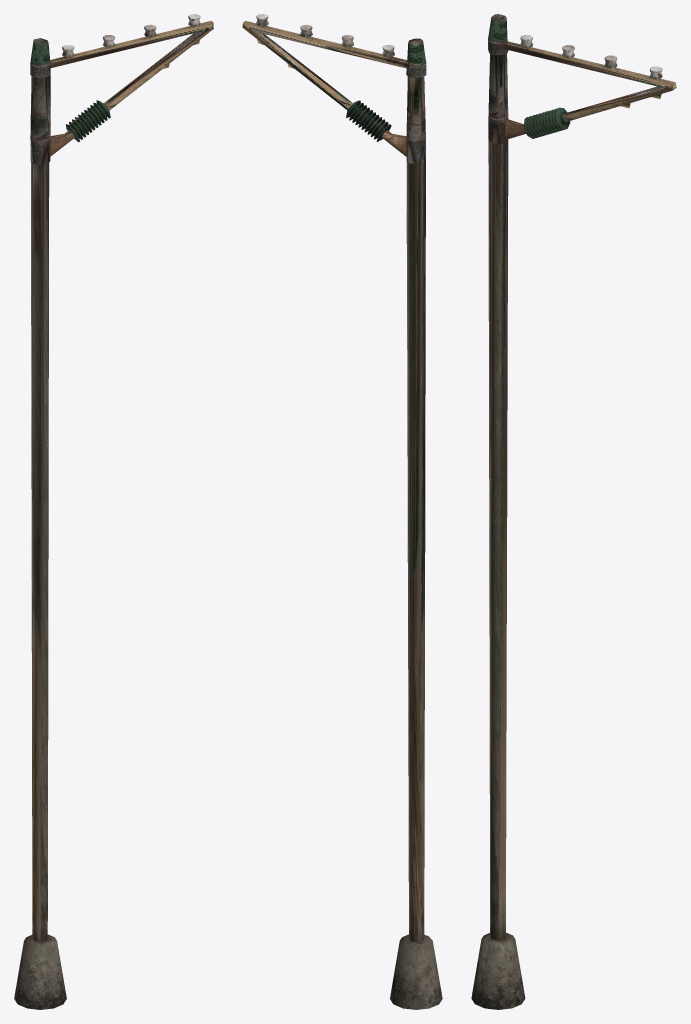
File: p_pole2.glb
3 views of the same model, side by side, from view 1: azimuth 30°, elevation 25°; view 2: azimuth 150°, elevation 25°; view 3: azimuth 330°, elevation 25° (orthographic). The views are drawn at different scales.
Visible parts, largest first — view 1: Cylinder, Cube, Cylinder.001; view 2: Cylinder, Cube, Cylinder.001; view 3: Cylinder, Cube, Cylinder.001.
Part boxes in pixels (x1,y1,x2,y2): Cylinder: [14, 38, 66, 1009]; Cube: [50, 21, 213, 156]; Cylinder.001: [66, 100, 110, 142]; Cylinder: [390, 38, 442, 1009]; Cube: [242, 21, 407, 156]; Cylinder.001: [346, 100, 391, 141]; Cylinder: [471, 14, 525, 1009]; Cube: [504, 41, 676, 139]; Cylinder.001: [523, 107, 570, 138].
Size of the model in its own units: 1.05 by 4.9 by 0.2449.
1 material, 1 textured.
